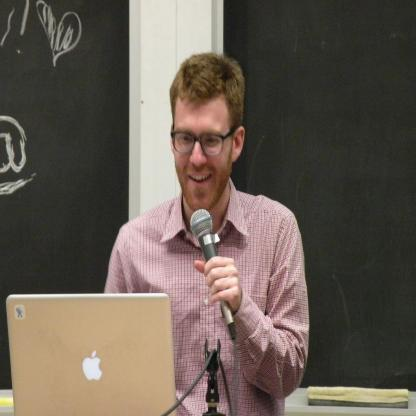board: (11, 291, 184, 413)
